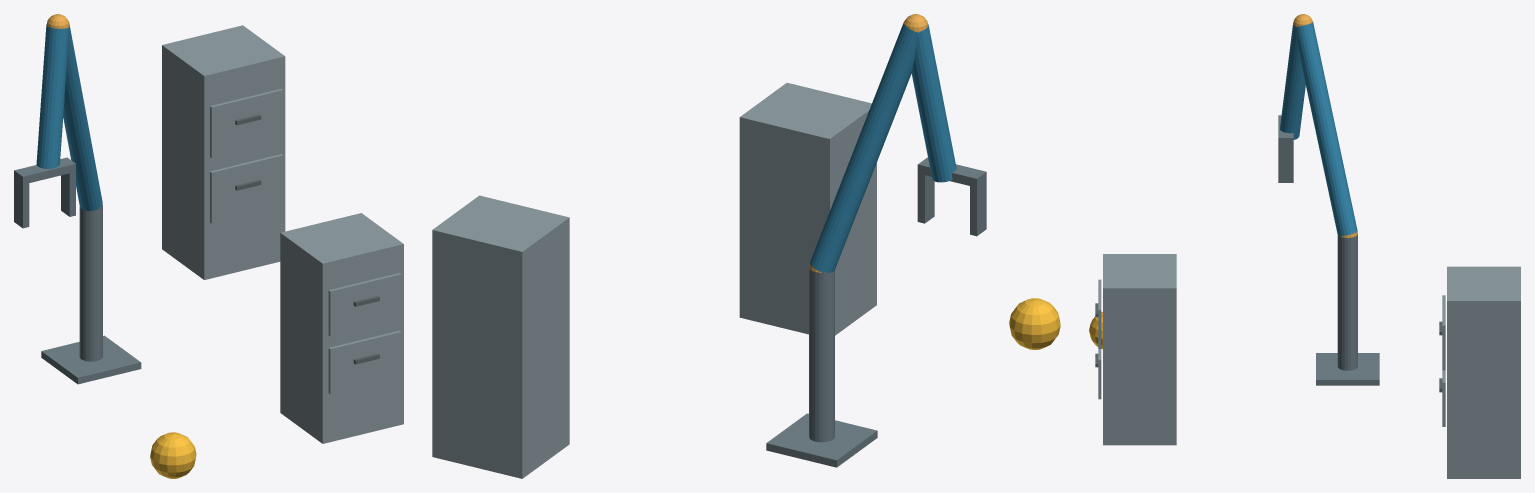
3 renders of one model, left to right at view 1: azimuth 30°, elevation 25°; view 2: azimuth 150°, elevation 25°; view 3: azimuth 270°, elevation 25°, orthographic. The views are drawn at different scales.
Visible parts, largest first — view 1: cabinet_2 body, cabinet_1 body, cabinet_2 drawer front, cabinet_2 drawer front.001, fixed post, moving link 2, cabinet_1 drawer front, cabinet_1 drawer front.001, moving link 1, pedestal, ball ball_1, gripper bridge (+2 smaller); view 2: cabinet_2 body, cabinet_1 body, moving link 1, fixed post, moving link 2, pedestal, ball ball_1, gripper finger -1, gripper finger 1, gripper bridge; view 3: cabinet_2 body, cabinet_1 body, moving link 1, fixed post, pedestal, moving link 2, gripper finger 1.
Part boxes in pixels (x1=…): cabinet_2 body: x1=162, y1=25, x2=285, y2=279; cabinet_1 body: x1=280, y1=213, x2=403, y2=443; cabinet_2 drawer front: x1=210, y1=154, x2=282, y2=223; cabinet_2 drawer front.001: x1=210, y1=89, x2=282, y2=158; fixed post: x1=79, y1=205, x2=102, y2=361; moving link 2: x1=36, y1=25, x2=68, y2=168; cabinet_1 drawer front: x1=328, y1=330, x2=401, y2=394; cabinet_1 drawer front.001: x1=328, y1=273, x2=401, y2=336; moving link 1: x1=63, y1=22, x2=102, y2=210; pedestal: x1=41, y1=335, x2=141, y2=384; ball ball_1: x1=150, y1=432, x2=196, y2=478; gripper bridge: x1=14, y1=157, x2=75, y2=184; cabinet_2 body: x1=432, y1=195, x2=569, y2=478; cabinet_1 body: x1=739, y1=82, x2=876, y2=335; moving link 1: x1=810, y1=22, x2=917, y2=272; fixed post: x1=809, y1=267, x2=834, y2=442; moving link 2: x1=911, y1=24, x2=956, y2=182; pedestal: x1=766, y1=413, x2=877, y2=467; ball ball_1: x1=1009, y1=298, x2=1060, y2=349; gripper finger -1: x1=970, y1=181, x2=986, y2=236; gripper finger 1: x1=917, y1=173, x2=934, y2=223; gripper bridge: x1=917, y1=157, x2=986, y2=187; cabinet_2 body: x1=1447, y1=266, x2=1520, y2=478; cabinet_1 body: x1=1103, y1=254, x2=1176, y2=445; moving link 1: x1=1295, y1=22, x2=1357, y2=236; fixed post: x1=1337, y1=234, x2=1357, y2=370; pedestal: x1=1316, y1=353, x2=1379, y2=385; moving link 2: x1=1280, y1=23, x2=1305, y2=139; gripper finger 1: x1=1278, y1=144, x2=1293, y2=182.
Size of the model in its own units: 1.42 by 1.44 by 1.69.
